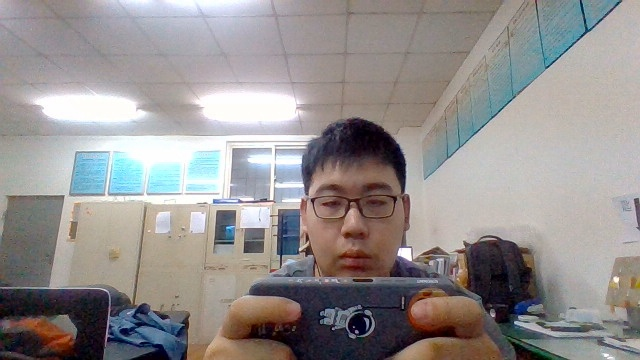playing: (221, 116, 478, 358)
